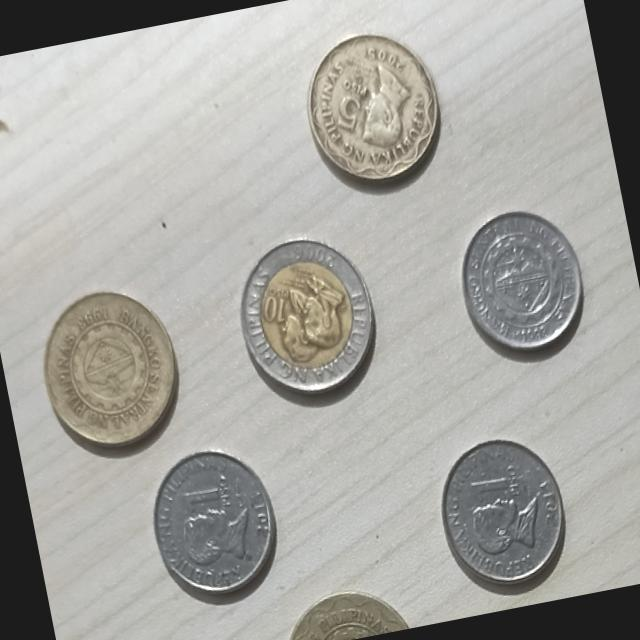10_peso: (241, 239, 373, 393)
1_peso: (154, 451, 275, 593), (442, 441, 563, 582), (462, 212, 581, 349)
5_peso: (44, 292, 177, 445), (308, 35, 438, 180)
